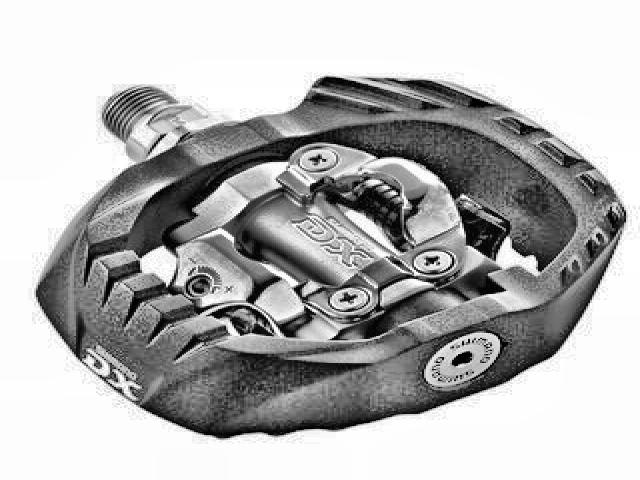pedal: (31, 73, 631, 441)
